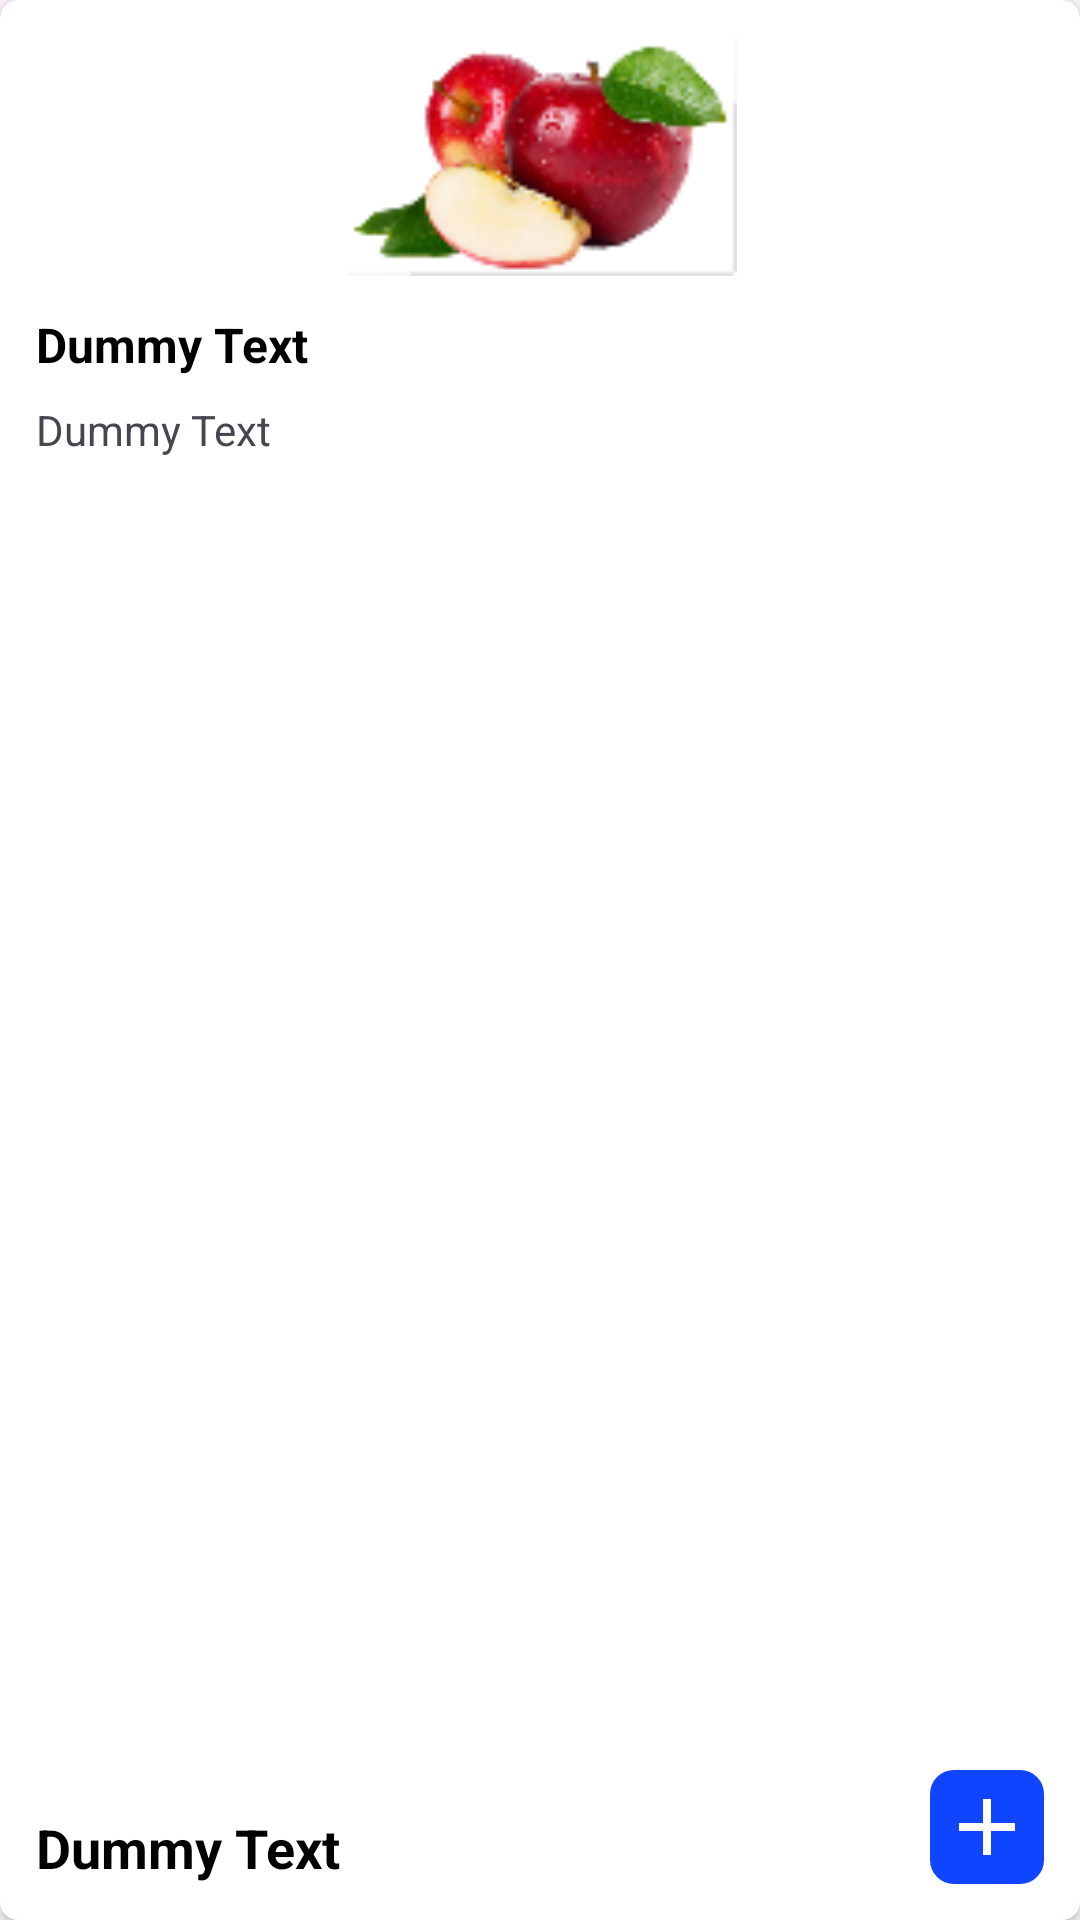

Where to tap for icons on this 1080*1920 app screen, as (x,y):
add: (987,1827)
